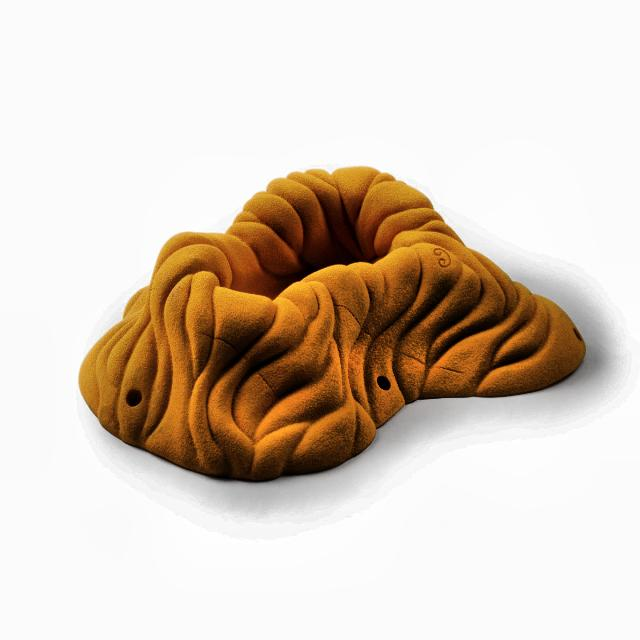Hold: (71, 156, 587, 484)
